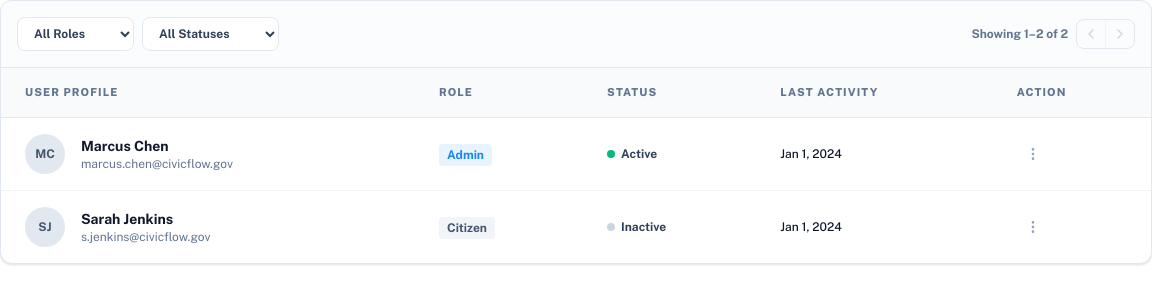
UsersTable › filters users by role
The image size is (1152, 282).
Select "Admin" in the dropdown named "filter by role": (76, 34) [17, 17, 134, 51]
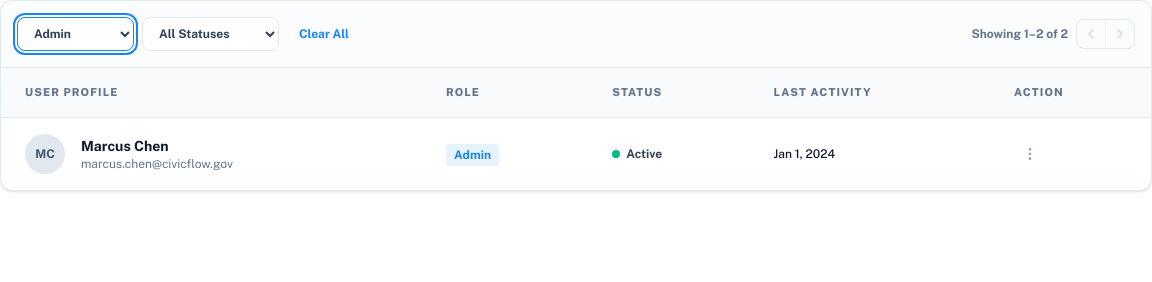
Expected: the text "Marcus Chen" is shown, [81, 138, 169, 154]
Expected: the text "Sarah Jenkins" is gone
